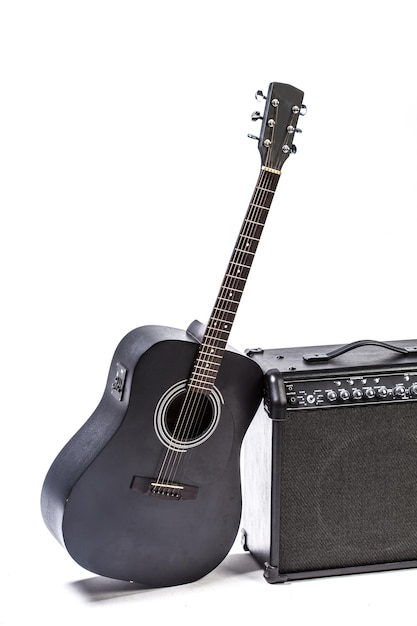guitar: (32, 78, 417, 596), (39, 80, 311, 592)
